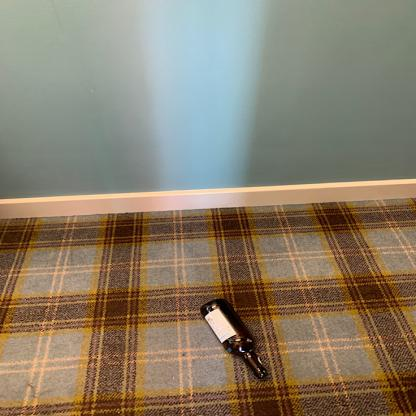trash: (199, 298, 270, 381)
